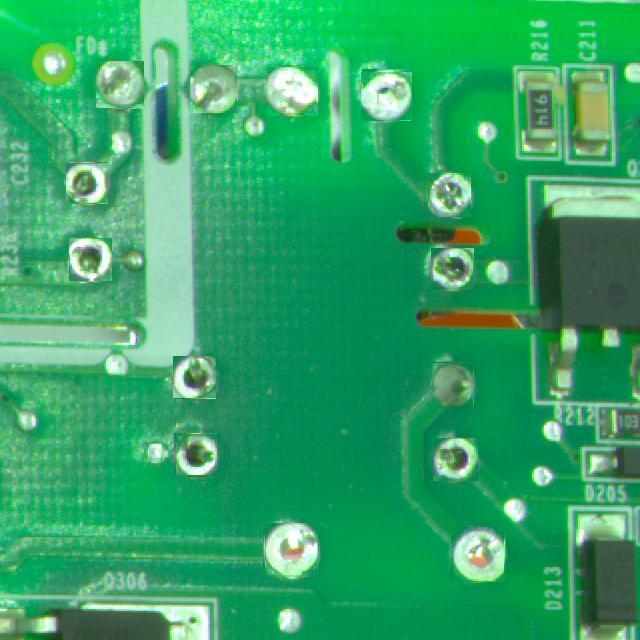oppostie_direction: (453, 527, 504, 582), (265, 524, 317, 577), (361, 71, 412, 120), (268, 68, 316, 114), (191, 65, 236, 113), (96, 62, 143, 107), (428, 173, 470, 217), (434, 439, 478, 480), (175, 433, 217, 475), (431, 248, 474, 289), (69, 239, 112, 280), (173, 357, 215, 398), (434, 362, 472, 406), (66, 163, 107, 203), (149, 445, 162, 459)
